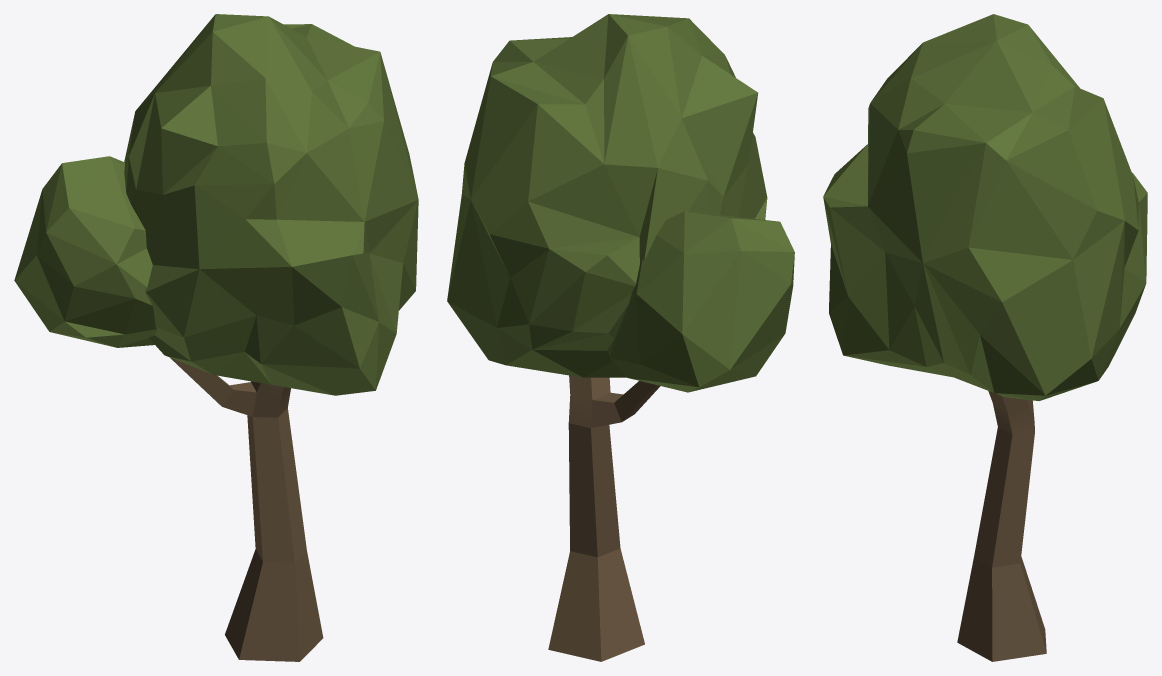
The model's file is tree_3.glb.
3 renders of one model, left to right at view 1: azimuth 30°, elevation 25°; view 2: azimuth 150°, elevation 25°; view 3: azimuth 270°, elevation 25°, orthographic. The views are drawn at different scales.
Parts seen in each view (by area): view 1: SM_Env_Tree_03; view 2: SM_Env_Tree_03; view 3: SM_Env_Tree_03.
Part boxes in pixels (left/top/right/bottom): SM_Env_Tree_03: left=14, top=14, right=418, bottom=661; SM_Env_Tree_03: left=447, top=14, right=794, bottom=661; SM_Env_Tree_03: left=823, top=14, right=1147, bottom=661.
Size of the model in its own units: 2.22 by 3.85 by 1.89.
1 material, 1 textured.
